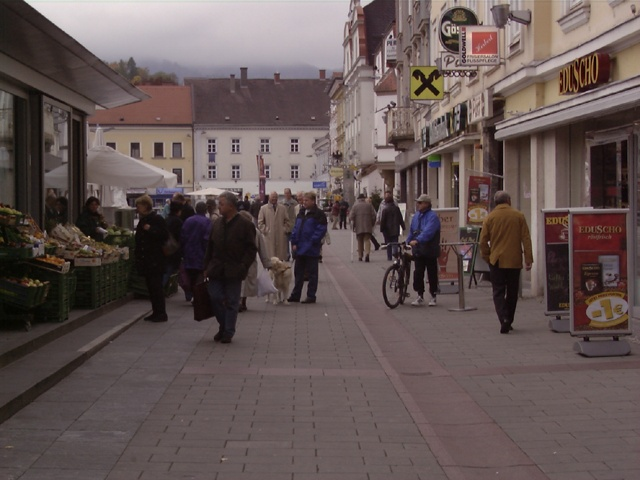person: (479, 185, 534, 334), (202, 191, 252, 347), (131, 196, 174, 322), (287, 189, 327, 304), (409, 192, 442, 308), (349, 191, 377, 261)
